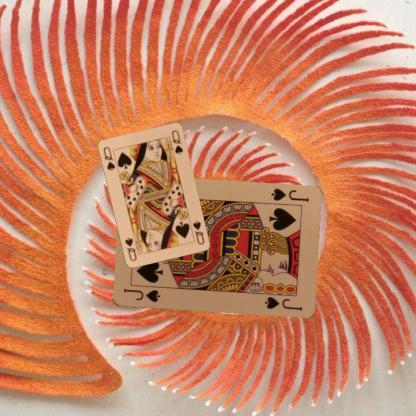Js: (121, 285, 161, 304), (268, 186, 310, 203)
Qs: (190, 219, 206, 246), (101, 145, 117, 172)
